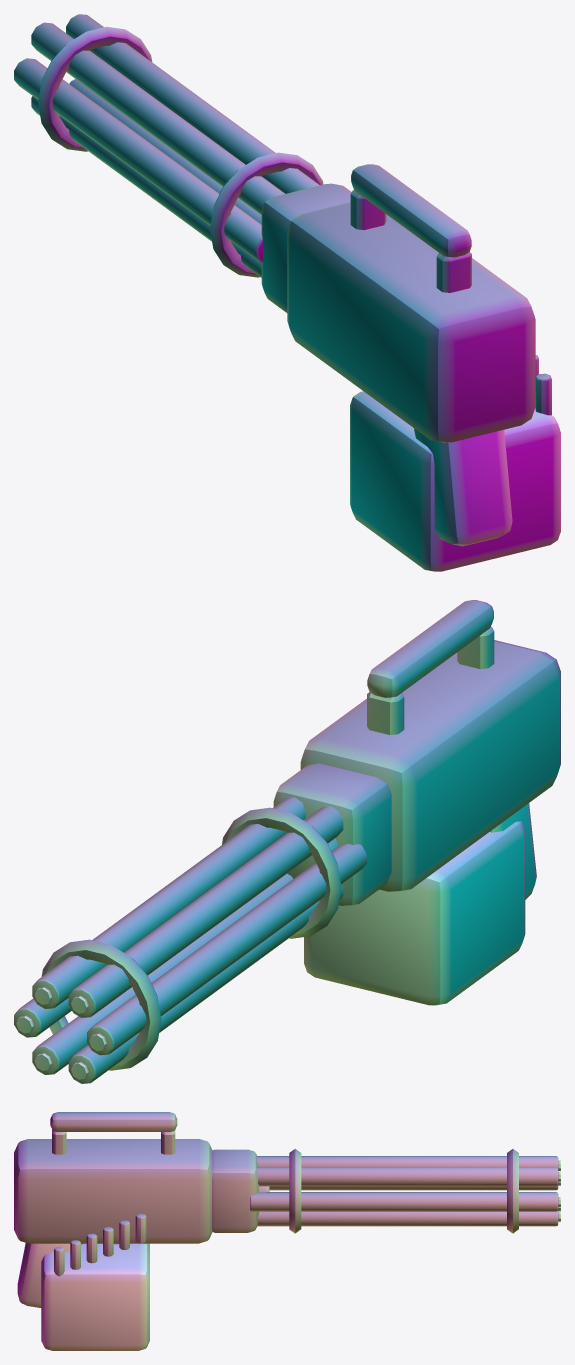
The model's file is wpn_minigun.glb.
The picture shows the model from 3 angles, top to bottom: view 1: azimuth 30°, elevation 25°; view 2: azimuth 150°, elevation 25°; view 3: azimuth 270°, elevation 25°; orthographic projection. The views are drawn at different scales.
Parts seen in each view (by area): view 1: wpn_minigun_mesh, spin; view 2: wpn_minigun_mesh, spin; view 3: wpn_minigun_mesh, spin.
Boxes of the visible parts, box(x1,y1,x2,y2) form: wpn_minigun_mesh: box(261, 164, 560, 571); spin: box(14, 14, 323, 277); wpn_minigun_mesh: box(273, 600, 560, 1005); spin: box(14, 797, 366, 1083); wpn_minigun_mesh: box(14, 1112, 258, 1350); spin: box(250, 1149, 560, 1233).
Size of the model in its own units: 0.0635 by 0.128 by 0.3015.
